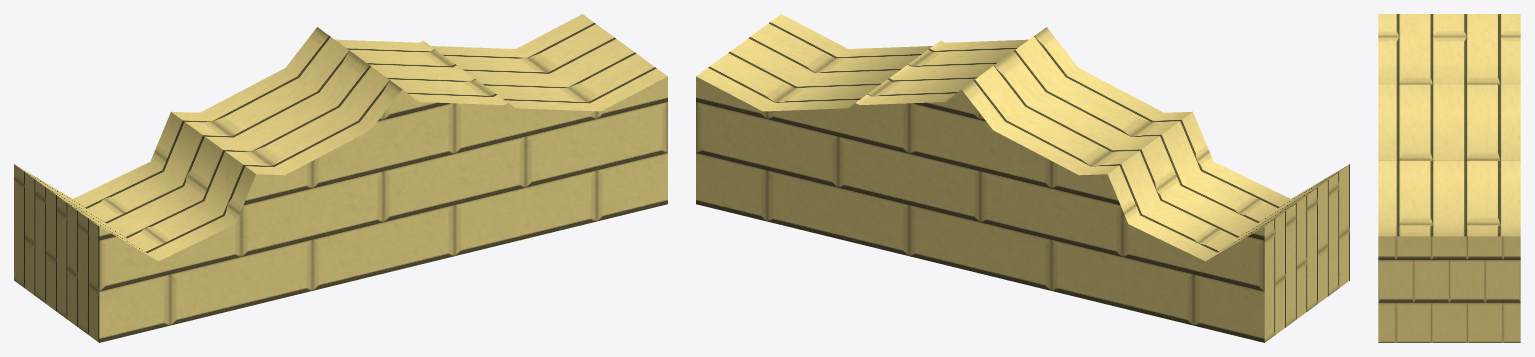
The model's file is RuinWall.FBX.
3 renders of one model, left to right at view 1: azimuth 30°, elevation 25°; view 2: azimuth 150°, elevation 25°; view 3: azimuth 270°, elevation 25°, orthographic. The views are drawn at different scales.
Visible parts, largest first — view 1: Box001; view 2: Box001; view 3: Box001.
Boxes of the visible parts, box(x1,y1,x2,y2) form: Box001: box(14, 14, 667, 342); Box001: box(696, 14, 1349, 342); Box001: box(1378, 14, 1520, 342).
Size of the model in its own units: 74.53 by 22.51 by 19.37.
